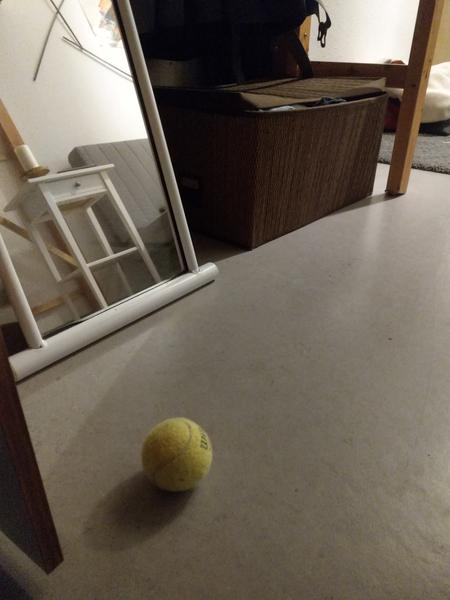Tennisball: (139, 414, 216, 496)
